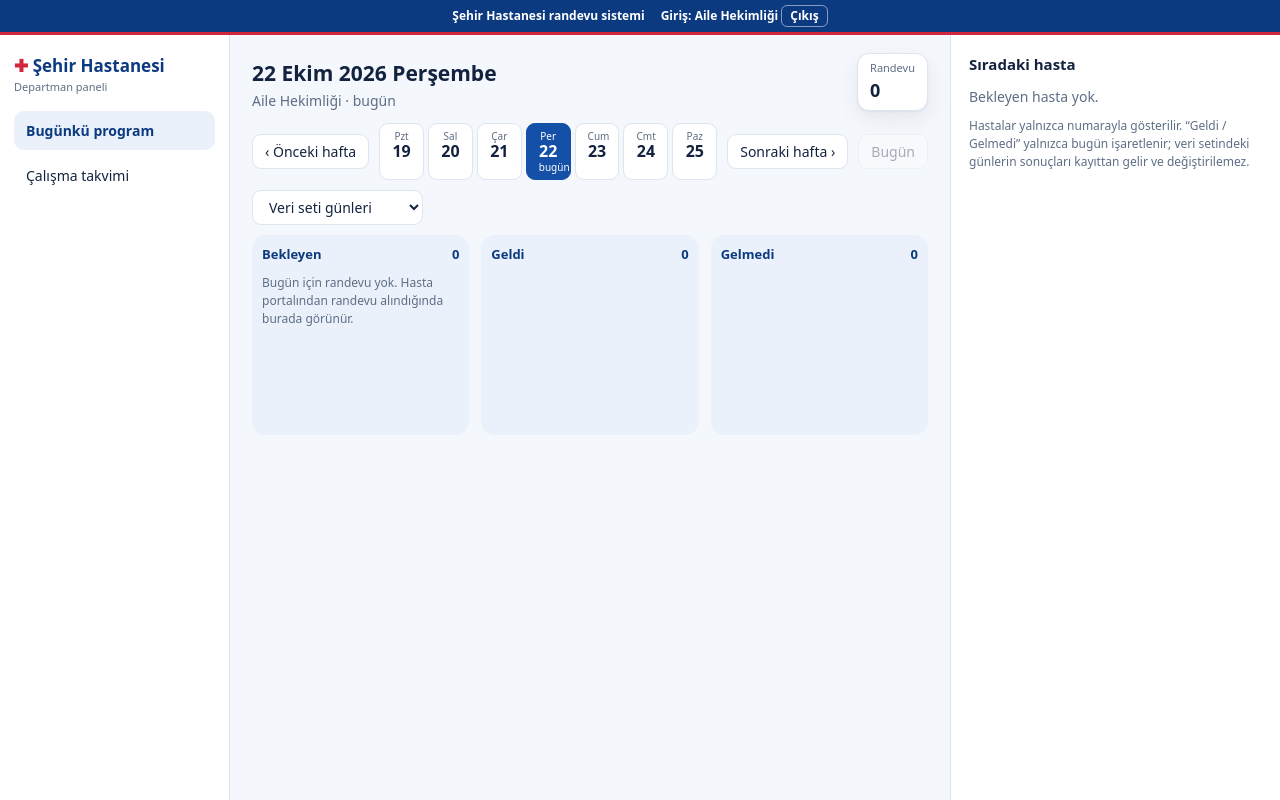
department panel › shows a dataset day read-only with the recorded outcome
Select "2016-06-07" in the dropdown named "Veri seti günü" at point(338, 207), box [252, 190, 423, 225]
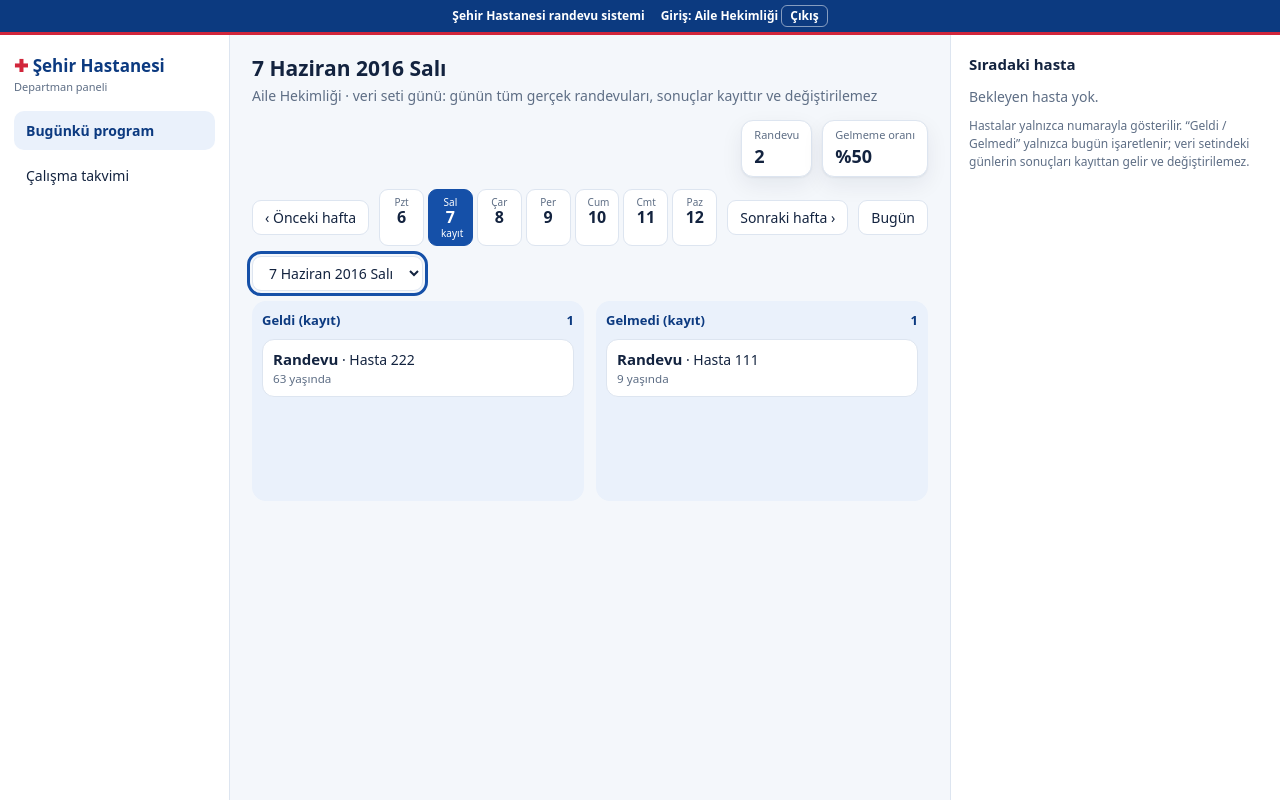
expect the list item "Randevu · Hasta 111 9 yaşında" is shown: met, box [606, 339, 918, 397]
expect the list item "Randevu · Hasta 222 63 yaşında" is shown: met, box [262, 339, 574, 397]
expect the text "%50" is shown: met, box [835, 144, 872, 168]
